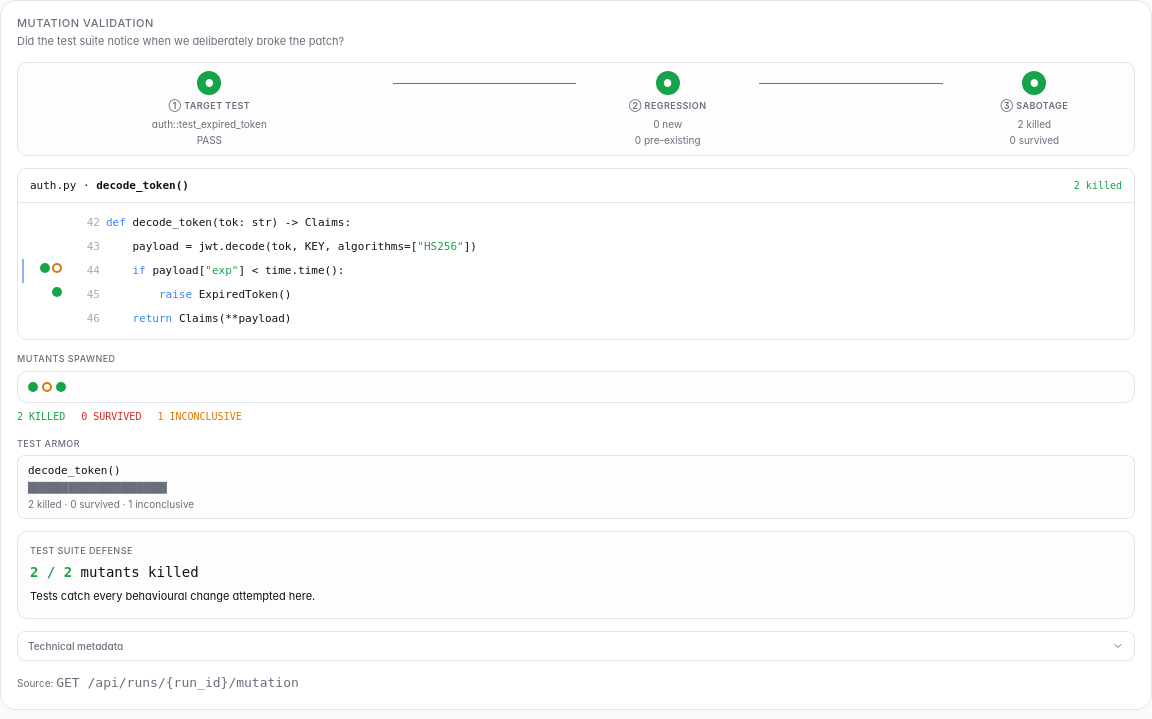
Scenario: MutationValidationPanel › expands an inconclusive mutant with the exact required copy
Expected: the text "44" is shown, x1=87 y1=264 x2=100 y2=277
Click the button titled "excluded from the mutation score" next to "44".
click(57, 268)  # box x1=52 y1=263 x2=62 y2=273
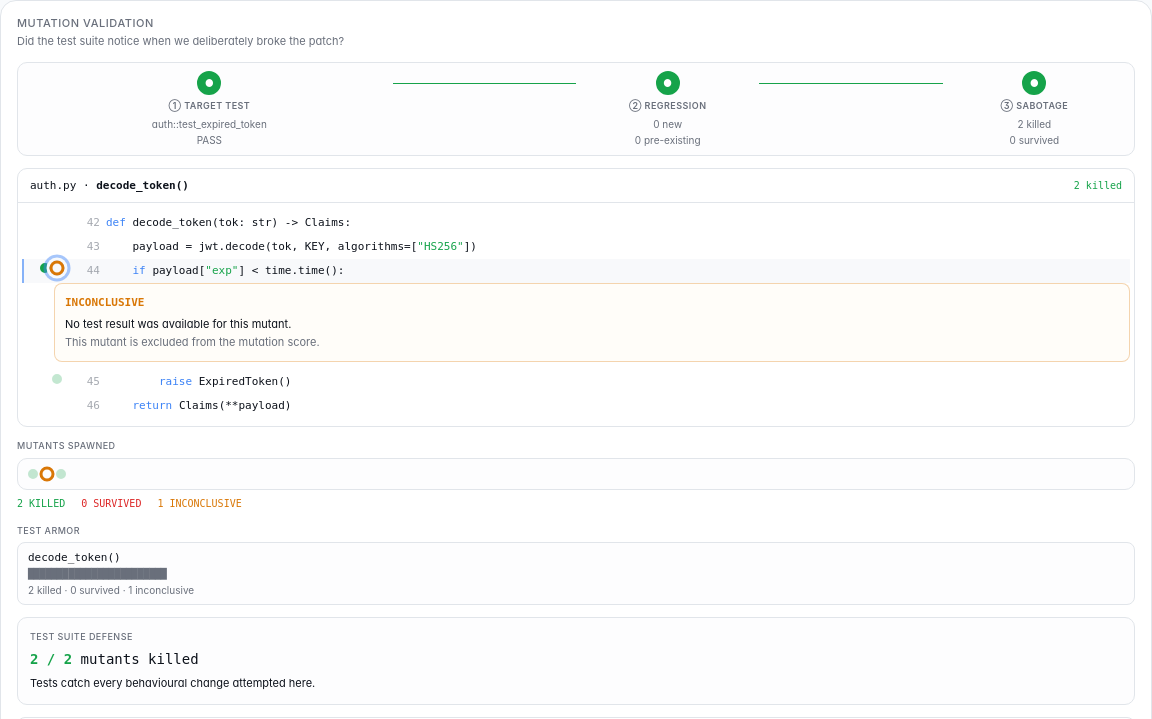
Result: the text "INCONCLUSIVE" is shown at x1=65 y1=296 x2=144 y2=309
Result: the text "No test result was available for this mutant." is shown at x1=65 y1=317 x2=291 y2=331
Result: the text "This mutant is excluded from the mutation score." is shown at x1=65 y1=334 x2=320 y2=348
